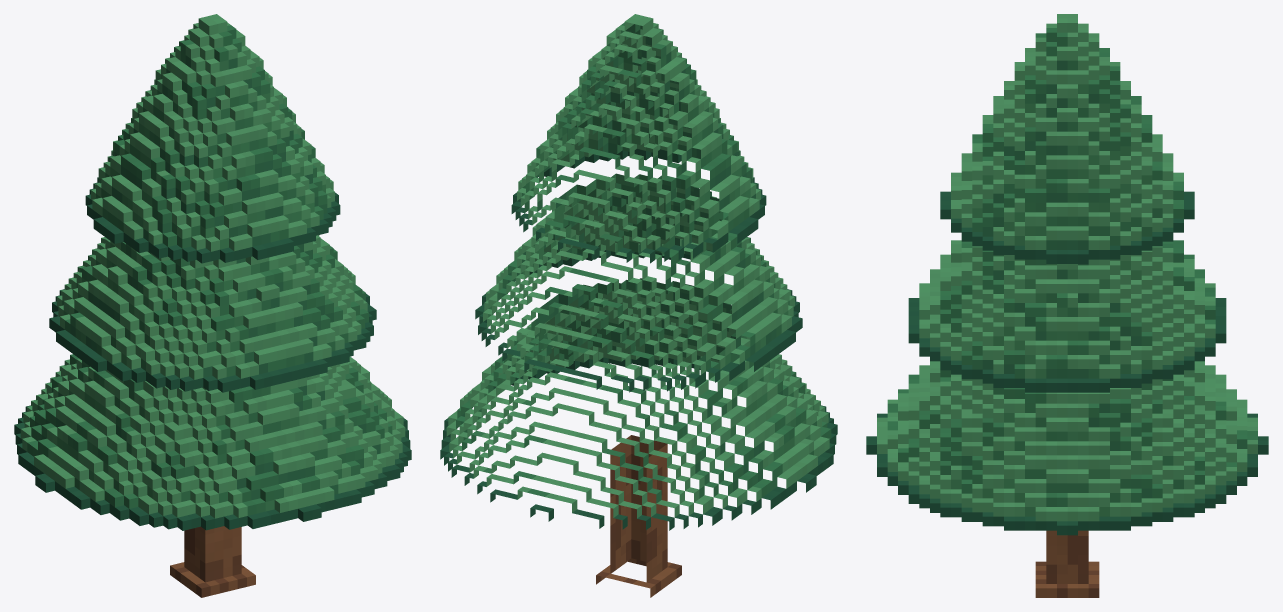
Rendered from tree_voxel_pine_a.glb.
3 views of the same model, side by side, from view 1: azimuth 30°, elevation 25°; view 2: azimuth 150°, elevation 25°; view 3: azimuth 270°, elevation 25° (orthographic).
Parts seen in each view (by area): view 1: Tree.001; view 2: Tree.001; view 3: Tree.001.
Part boxes in pixels (x1,y1,x2,y2): Tree.001: [14, 14, 411, 597]; Tree.001: [440, 14, 837, 597]; Tree.001: [866, 14, 1268, 597].
Bounding box in the file's own units: 1.52 × 2.36 × 1.52.
